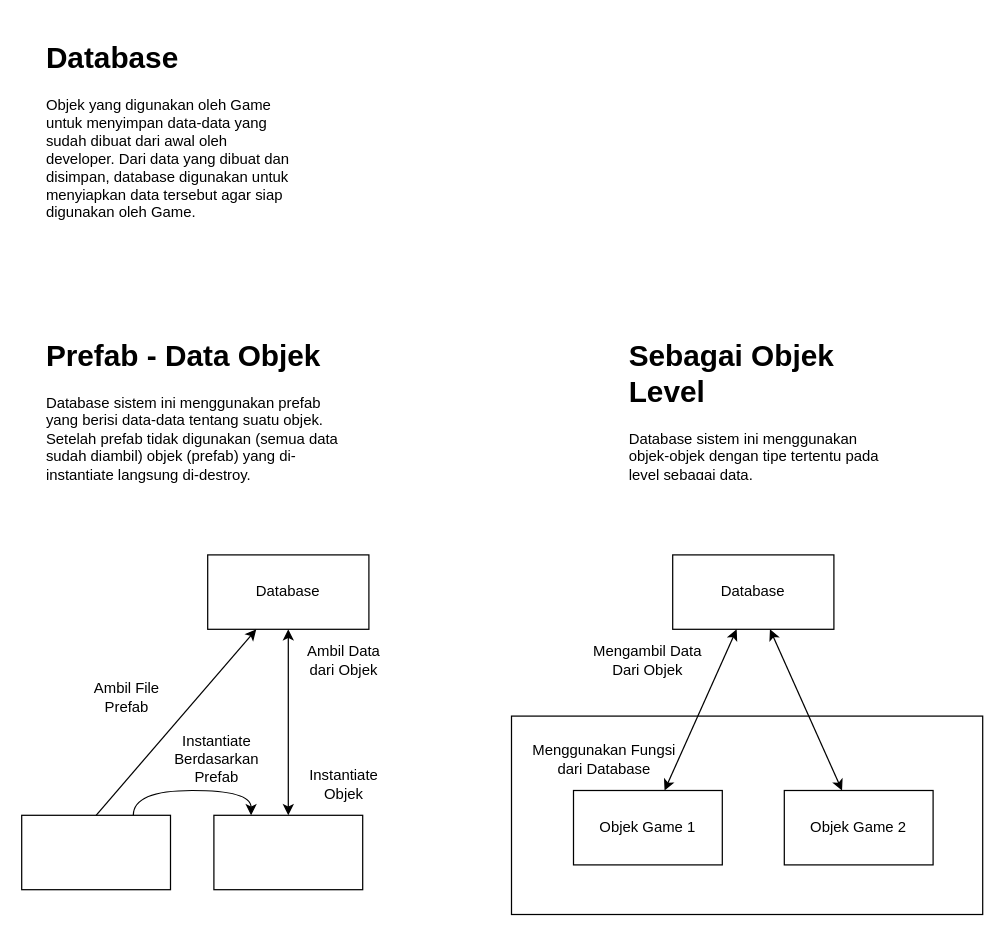
The diagram is 1004 pixels wide and 936 high, and some of its shapes have lost their labels. The shapes that lost their labels are listed below. From the top down, each one's centre as x and y in pixels, then its label:
pixel 95 852: Prefab
pixel 288 852: Objek Game
